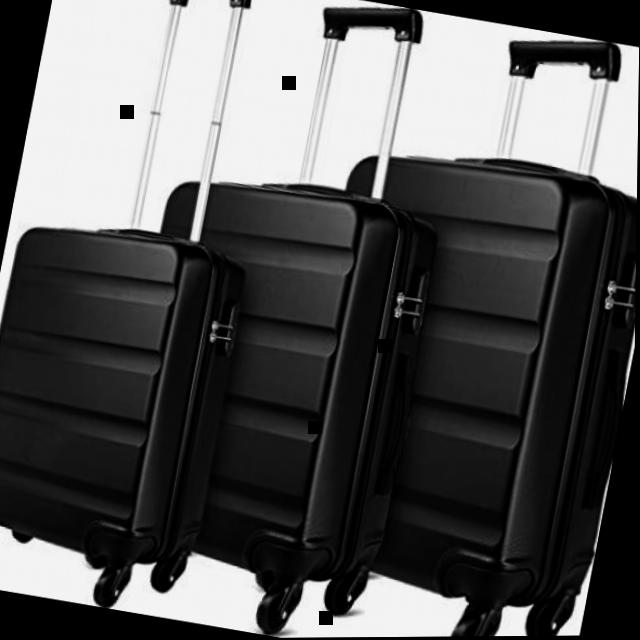luggage: (269, 123, 639, 628), (94, 154, 455, 604), (0, 203, 261, 583)
